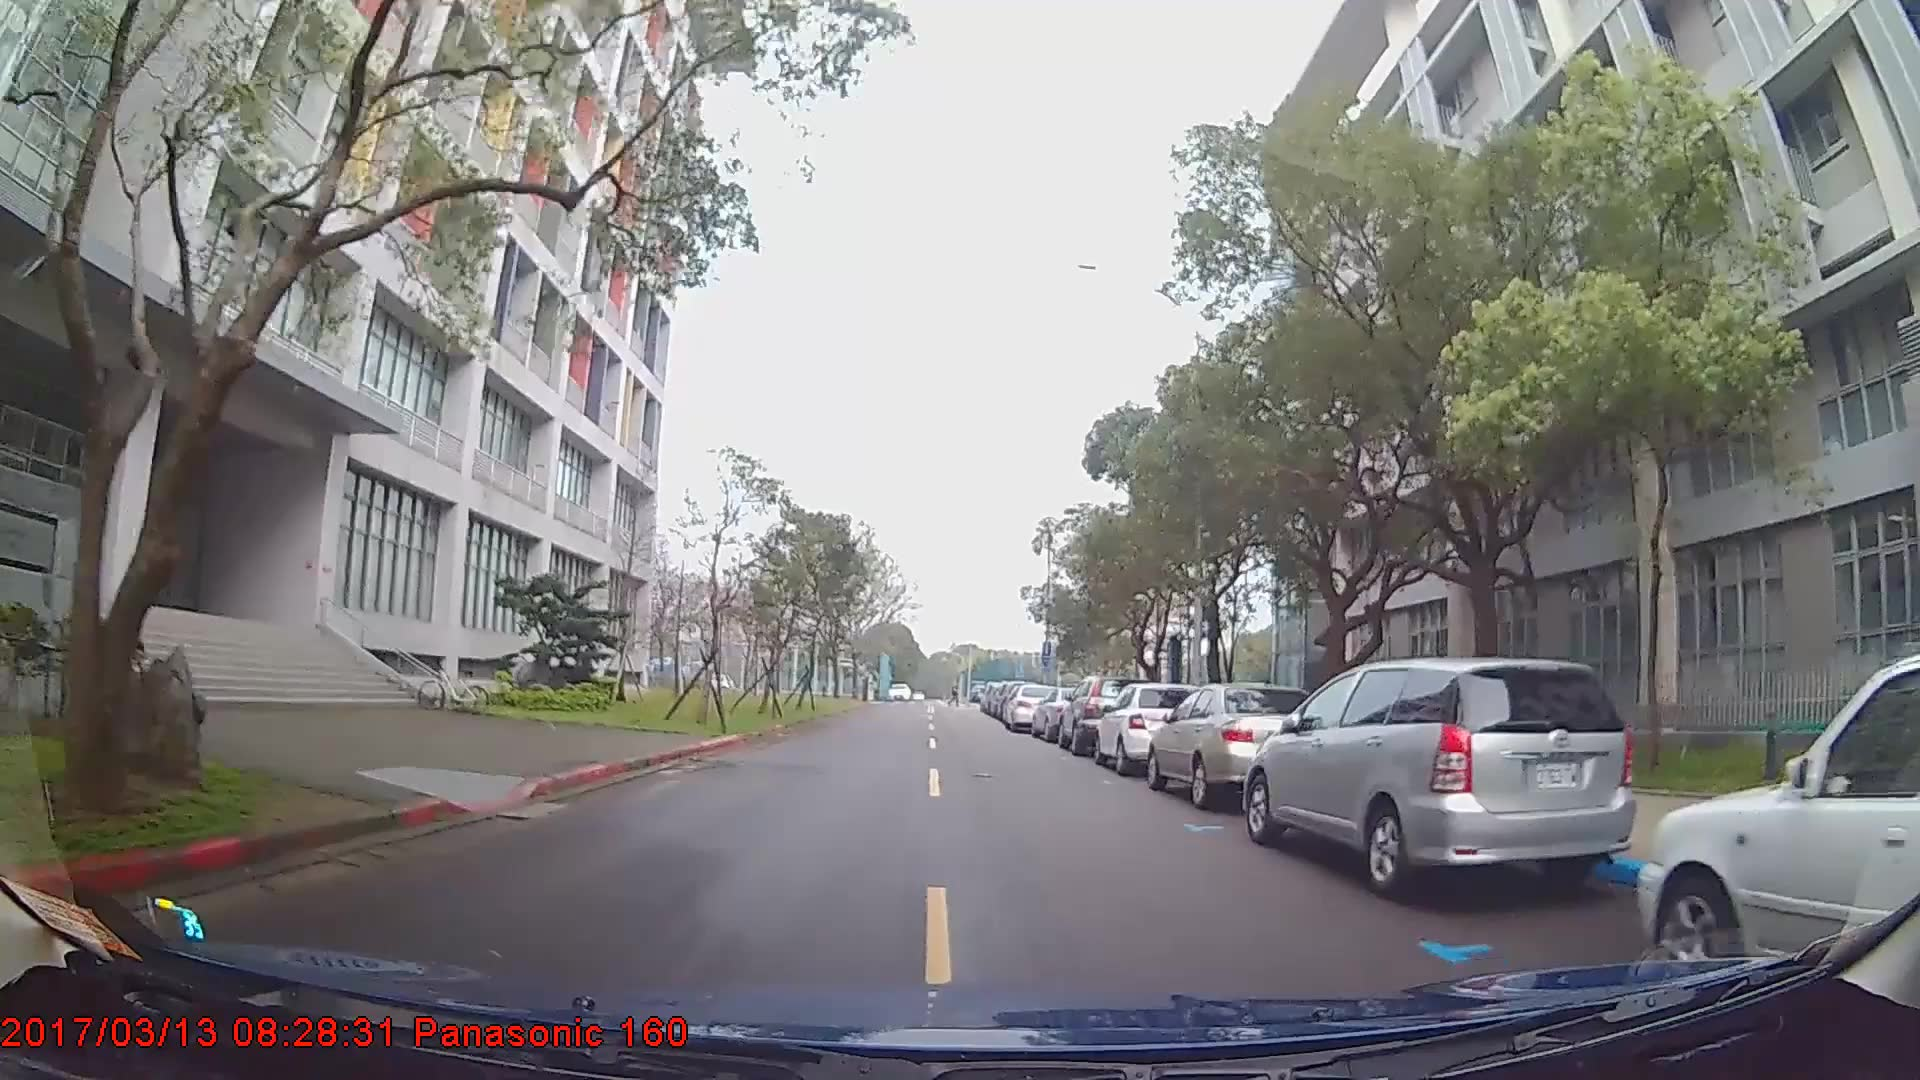vehicle: (1240, 654, 1636, 895), (1640, 647, 1919, 982), (1145, 679, 1323, 804), (1095, 680, 1201, 775), (1055, 674, 1145, 754), (1001, 680, 1062, 733)
